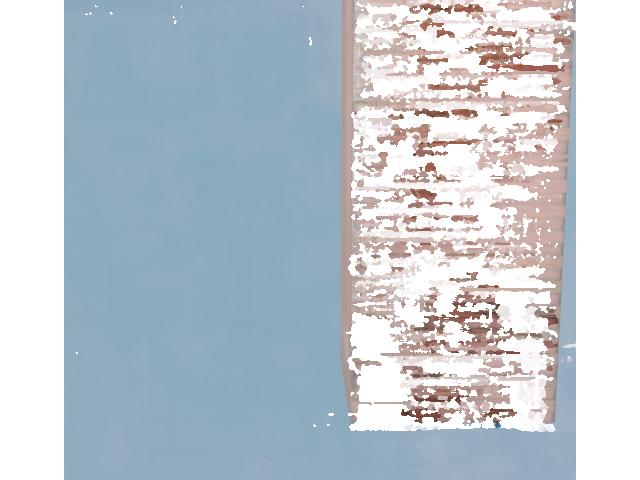container4: (332, 0, 577, 423)
